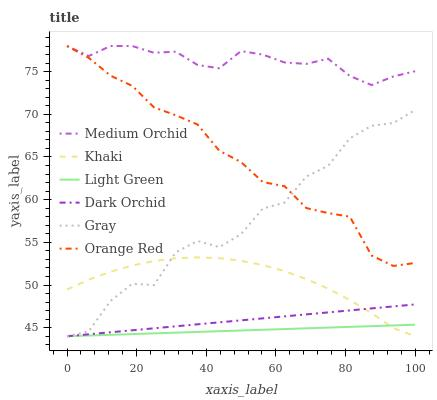axis: (58, 346, 433, 358), (42, 30, 54, 350)
legend: (51, 119, 192, 261)
line: (73, 109, 415, 336), (67, 45, 412, 269), (66, 255, 411, 336), (86, 44, 416, 87), (71, 302, 414, 339), (68, 322, 415, 339)
